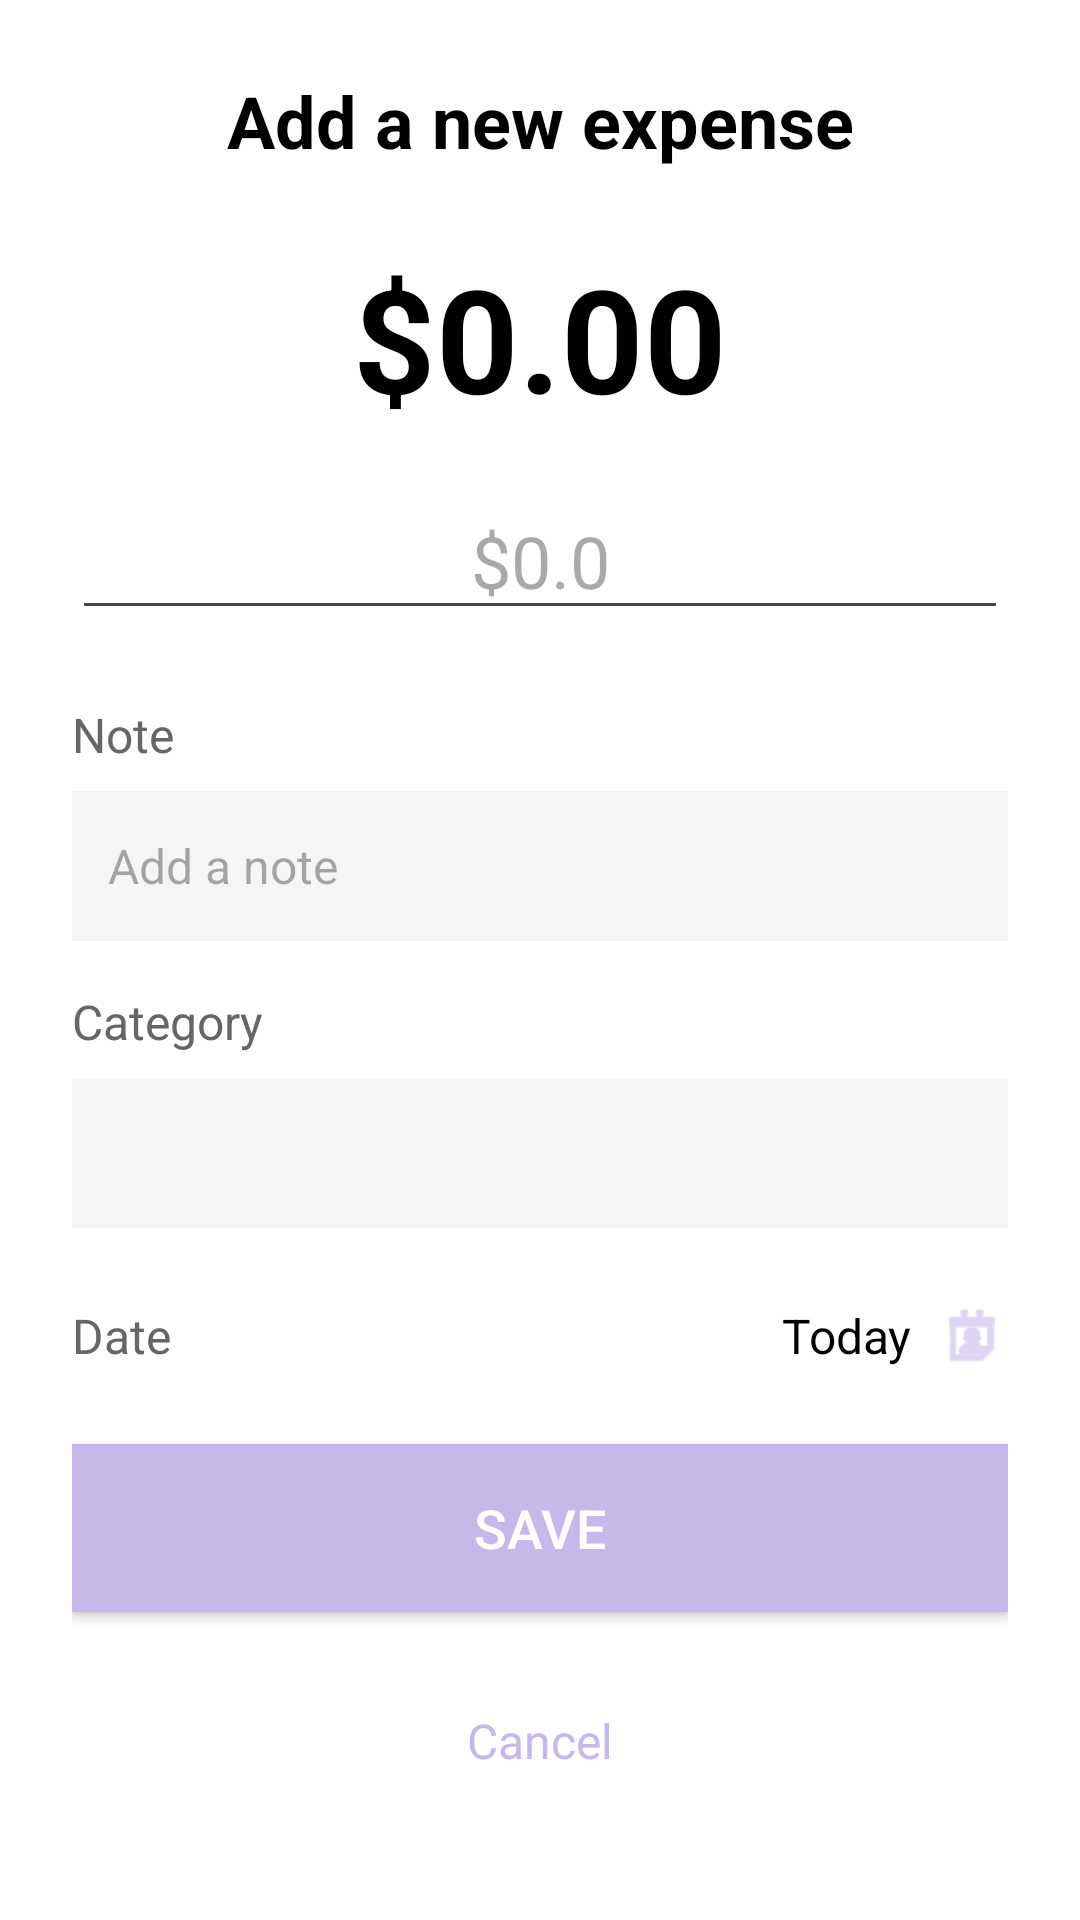

Icon click points for this 1080px x 1920px phone screenshot, format point (x, y):
calendar: point (972, 1335)
